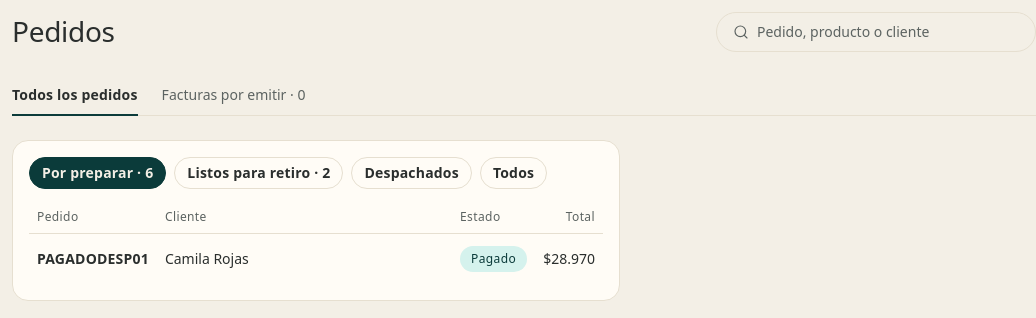
Test: Panel de pedidos · lista y detalle (SCRUM-130) › E8-H2 FE · CA1 lista y detalle: los filtros por estado son los grupos del backend, con su conteo
Click the button "Despachados" at (412, 173), box [352,157,472,189]
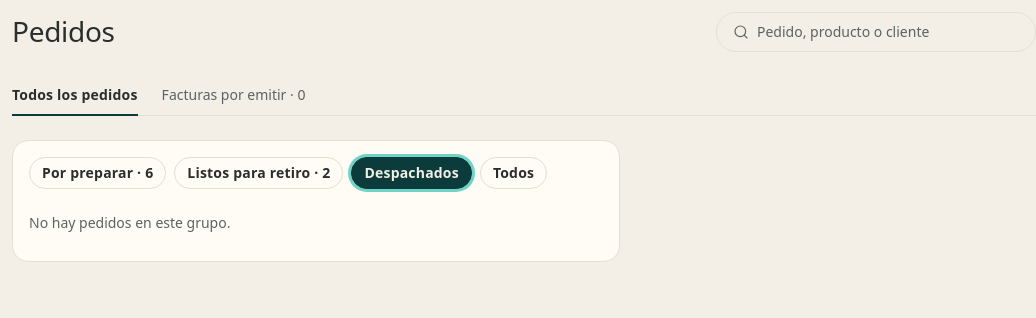
Expected: the text "No hay pedidos en este grupo." is shown, [29,213,230,232]
